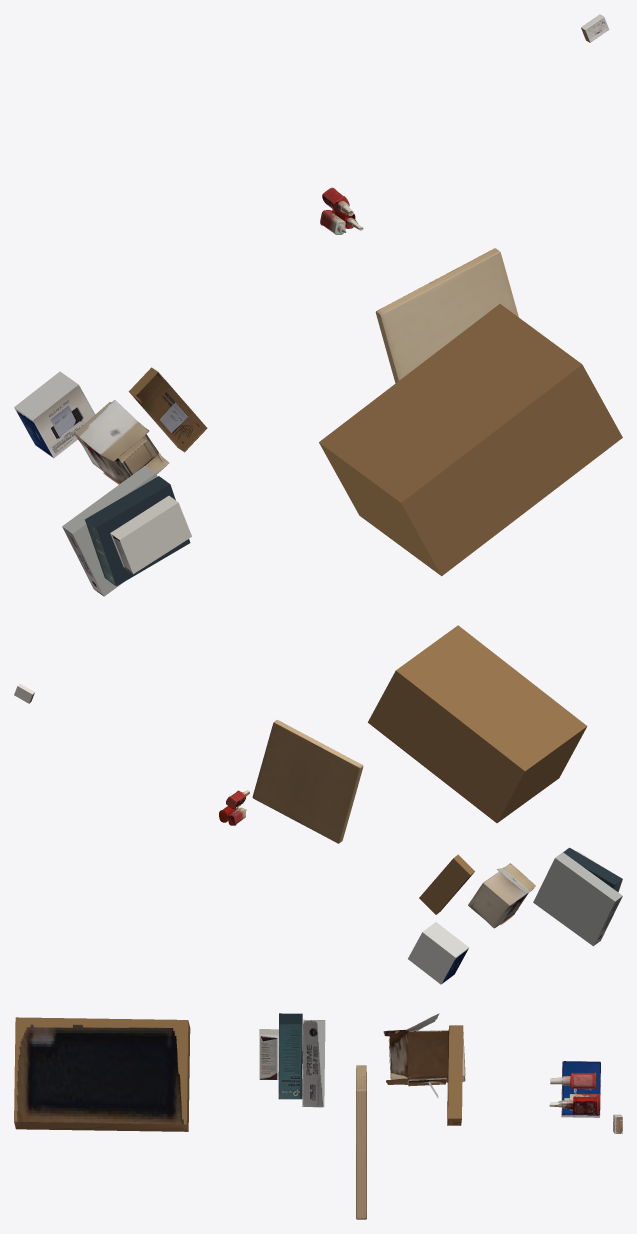
The model's file is props-1.glb.
3 views of the same model, one above another, from view 1: azimuth 30°, elevation 25°; view 2: azimuth 150°, elevation 25°; view 3: azimuth 270°, elevation 25° (orthographic). The views are drawn at different scales.
Parts seen in each view (by area): view 1: face_1_pos_003, face_0_pos_003, asset_67013_primitive_0, asset_1268_primitive_0, face_2_pos_003, face_03_002, face_1_pos, face_1_neg_007, face_2_neg_006, face_2_pos_007, face_1_pos_009, face_1_neg_006 (+2 smaller); view 2: face_1_pos_003, face_0_neg_003, asset_67013_primitive_0, face_2_neg_009, asset_1268_primitive_0, face_2_pos_003, face_1_pos_007, face_1_neg, face_1_pos_009, face_2_pos_007, face_1_neg_006; view 3: face_2_neg_003, asset_1268_primitive_1, face_0_pos_009, face_0_pos_006, asset_67013_primitive_0, face_1_neg_003, face_0_pos, face_0_pos_007, face_01_002, asset_1268_primitive_0, part0_fallback_002, part0_photo1_003.
Part boxes in pixels (<box>): face_1_pos_003: <box>319,304,581,502</box>; face_0_pos_003: <box>401,364,622,575</box>; asset_67013_primitive_0: <box>375,248,518,383</box>; asset_1268_primitive_0: <box>74,400,169,475</box>; face_2_pos_003: <box>319,443,441,575</box>; face_03_002: <box>119,502,191,573</box>; face_1_pos: <box>135,372,207,452</box>; face_1_neg_007: <box>33,384,95,457</box>; face_2_neg_006: <box>96,484,190,586</box>; face_2_pos_007: <box>14,371,78,420</box>; face_1_pos_009: <box>62,465,155,533</box>; face_1_neg_006: <box>85,476,169,527</box>; face_1_pos_003: <box>396,625,586,771</box>; face_0_neg_003: <box>368,670,524,822</box>; asset_67013_primitive_0: <box>252,720,363,843</box>; face_2_neg_009: <box>533,858,614,945</box>; asset_1268_primitive_0: <box>468,863,535,928</box>; face_2_pos_003: <box>497,727,586,822</box>; face_1_pos_007: <box>408,932,455,984</box>; face_1_neg: <box>419,858,470,914</box>; face_1_pos_009: <box>555,852,622,901</box>; face_2_pos_007: <box>422,922,468,957</box>; face_1_neg_006: <box>563,847,622,884</box>; face_2_neg_003: <box>14,1017,188,1124</box>; asset_1268_primitive_1: <box>385,1015,448,1085</box>; face_0_pos_009: <box>302,1020,325,1107</box>; face_0_pos_006: <box>278,1024,302,1099</box>; asset_67013_primitive_0: <box>356,1065,366,1219</box>; face_1_neg_003: <box>14,1121,188,1131</box>; face_0_pos: <box>448,1025,463,1118</box>; face_0_pos_007: <box>561,1061,600,1115</box>; face_01_002: <box>259,1034,278,1079</box>; asset_1268_primitive_0: <box>383,1013,465,1098</box>; part0_fallback_002: <box>550,1072,596,1088</box>; part0_photo1_003: <box>549,1098,597,1115</box>.
Bounding box in the file's own units: 2.58 × 1.1 × 1.93.
Materials: 49 (35 with a texture image).
